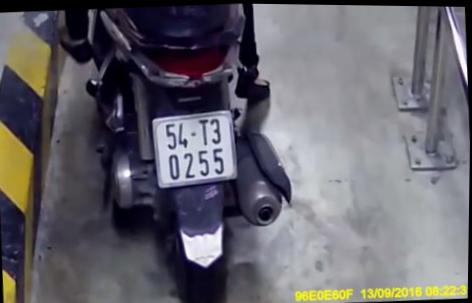LP: (150, 105, 239, 189)
